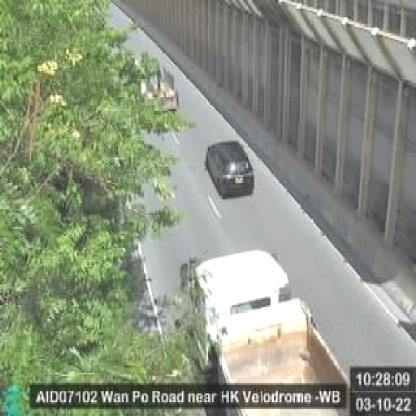Car: (206, 140, 256, 198)
Truck: (176, 246, 358, 414)
